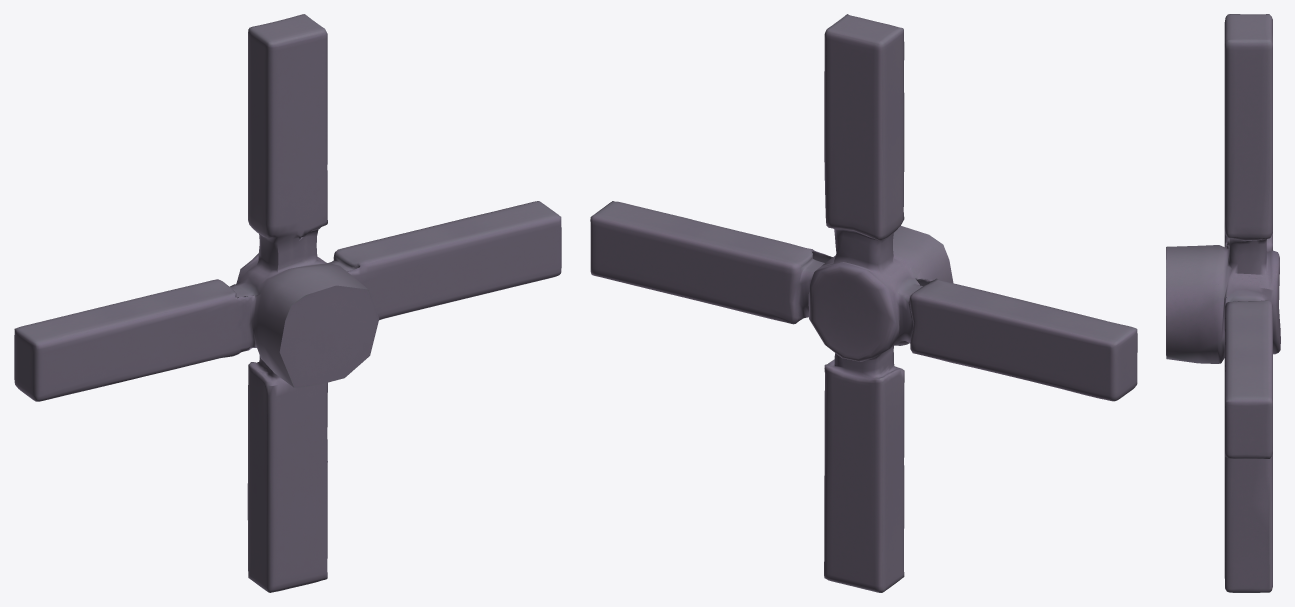
File: back_propeller.glb
The picture shows the model from 3 angles, left to right: view 1: azimuth 30°, elevation 25°; view 2: azimuth 150°, elevation 25°; view 3: azimuth 270°, elevation 25°; orthographic projection.
Parts seen in each view (by area): view 1: mesh_node; view 2: mesh_node; view 3: mesh_node.
Boxes of the visible parts, left/top/right/bottom form: mesh_node: left=14, top=14, right=561, bottom=592; mesh_node: left=590, top=14, right=1137, bottom=592; mesh_node: left=1166, top=14, right=1280, bottom=592.
Bounding box in the file's own units: 1.9 × 1.9 × 0.3587.
Materials: 1 (1 with a texture image).
